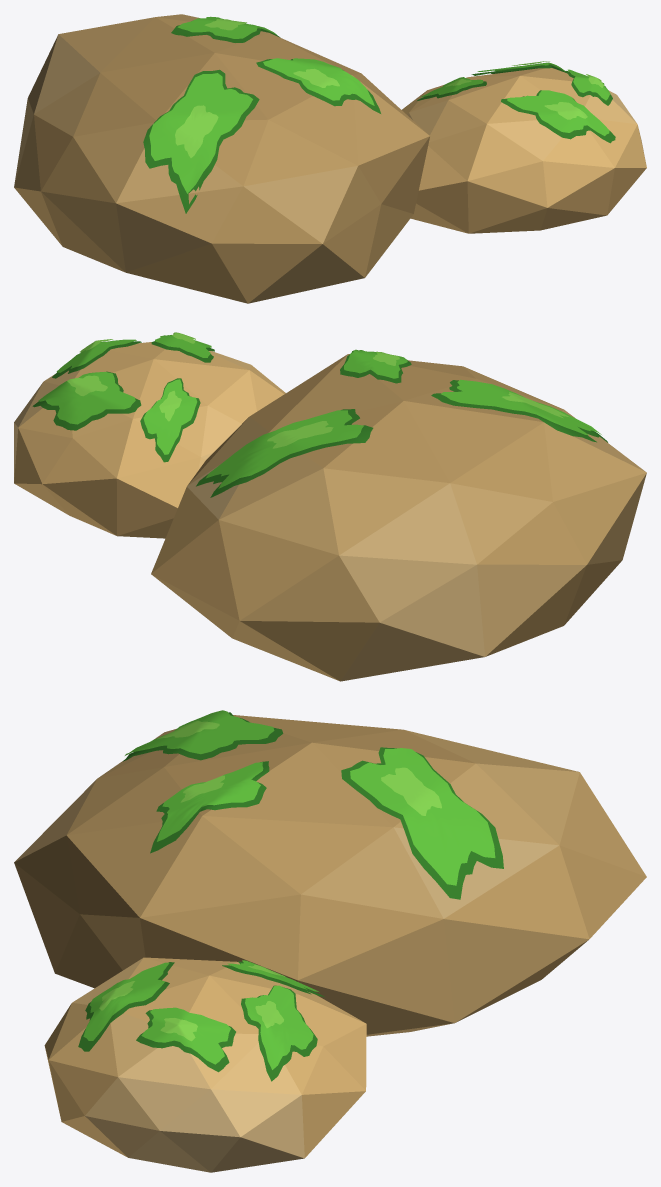
Rendered from rock_6_rim.glb.
3 views of the same model, one above another, from view 1: azimuth 30°, elevation 25°; view 2: azimuth 150°, elevation 25°; view 3: azimuth 270°, elevation 25° (orthographic). The views are drawn at different scales.
Parts seen in each view (by area): view 1: rock_6_rim; view 2: rock_6_rim; view 3: rock_6_rim.
Part boxes in pixels (x1,y1,x2,y2): rock_6_rim: (14,14,646,303); rock_6_rim: (14,332,646,681); rock_6_rim: (14,710,646,1172).
Size of the model in its own units: 2.68 by 0.8661 by 2.16.
